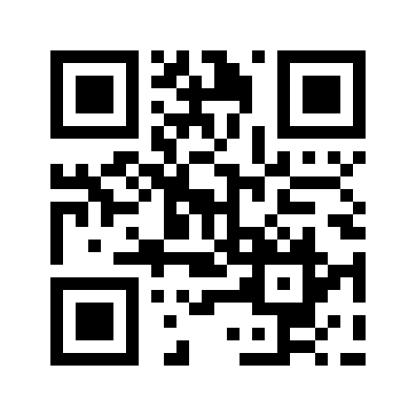qr: (46, 45, 372, 371)
